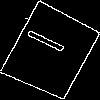I: (25, 26, 76, 60)
